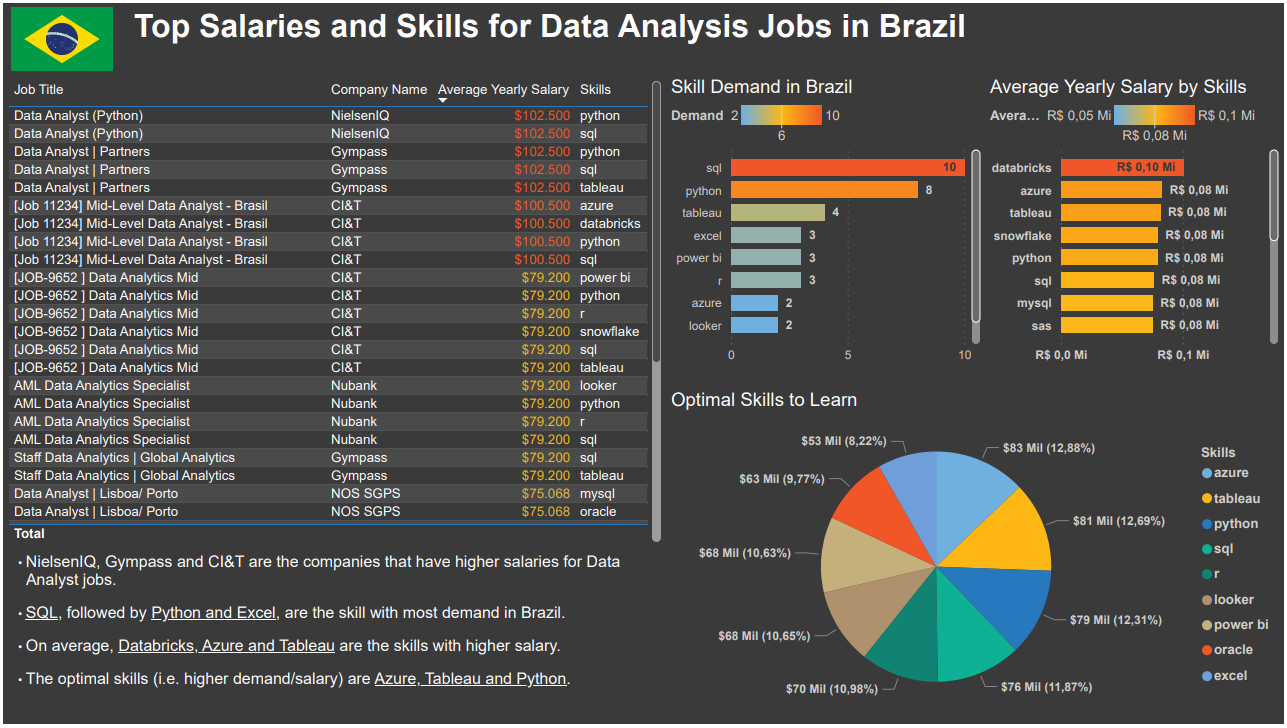

This screenshot's page, from the dashboard's own definition file:
{"tool":"powerbi","page":{"name":"Brazil Stats","canvas":[1280,720],"ordinal":1},"visuals":[{"type":"tableEx","fields":{"Values":["top_paying_skills_br.job_title","top_paying_skills_br.company_name","top_paying_skills_br.salary_year_avg","top_paying_skills_br.skills"]},"box":[0,72.7,663.3,471.7],"z":0},{"type":"textbox","box":[125.9,0,923.9,61.2],"z":1000},{"type":"image","box":[0,0,117,72.7],"z":2000},{"type":"pieChart","title":"Optimal Skills to Learn","fields":{"Category":["optimal_skills_br.skills"],"Y":["Avg(optimal_skills_br.avg_salary)"],"Series":["optimal_skills_br.demand_count"]},"box":[663.3,385.7,617.1,334.3],"z":3000},{"type":"barChart","title":"Average Yearly Salary by Skills","fields":{"Y":["Avg(top_avg_paying_skills_br.salary_year_avg)"],"Category":["top_avg_paying_skills_br.skills"]},"box":[981.6,72.7,298.8,295.3],"z":4000},{"type":"textbox","box":[0,545,663,175],"z":5000},{"type":"barChart","title":"Skill Demand in Brazil","fields":{"Category":["optimal_skills_br.skills"],"Y":["Sum(optimal_skills_br.demand_count)"]},"box":[663.3,72.7,318.3,295.3],"z":6000}]}

Visuals, with their boxes in screenshot pixels (x1, y1, x2, y2), scaled from the page's 1280x720 canvas onto the 1287x728 screenshot:
tableEx - top_paying_skills_br.job_title x top_paying_skills_br.company_name: {"x1": 0, "y1": 74, "x2": 667, "y2": 550}
textbox: {"x1": 127, "y1": 0, "x2": 1056, "y2": 62}
image: {"x1": 0, "y1": 0, "x2": 118, "y2": 74}
"Optimal Skills to Learn" pieChart: {"x1": 667, "y1": 390, "x2": 1286, "y2": 727}
"Average Yearly Salary by Skills" barChart: {"x1": 987, "y1": 74, "x2": 1286, "y2": 372}
textbox: {"x1": 0, "y1": 551, "x2": 667, "y2": 727}
"Skill Demand in Brazil" barChart: {"x1": 667, "y1": 74, "x2": 987, "y2": 372}
